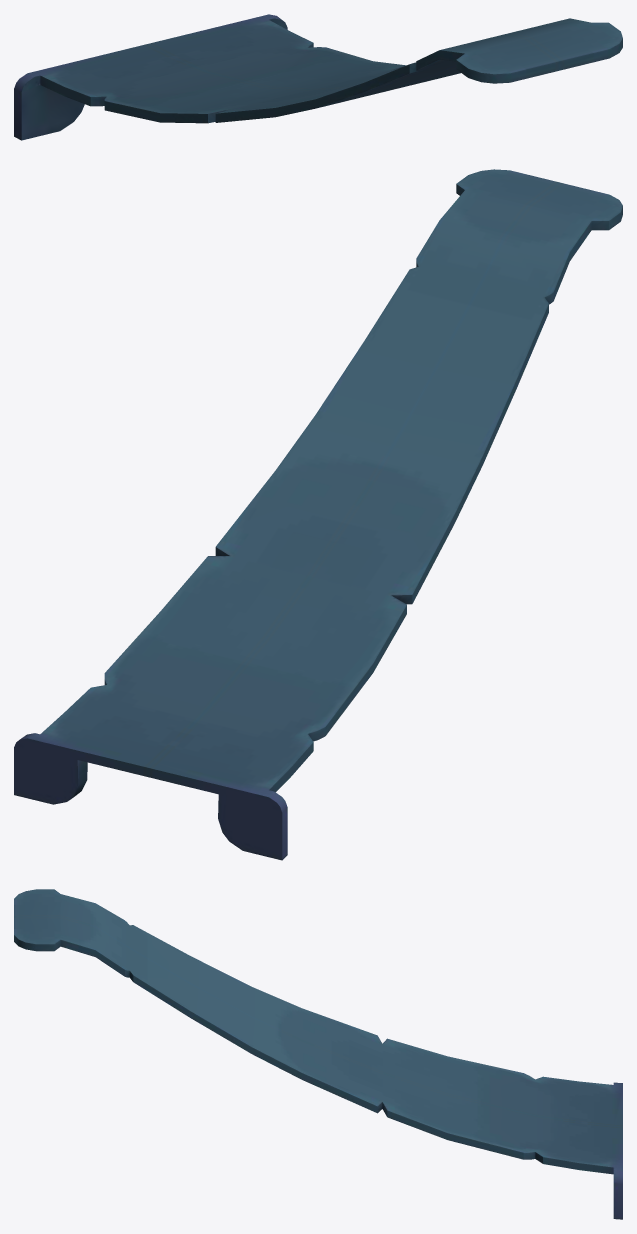
Rendered from OBJ_FLAG_B_02.obj.
The picture shows the model from 3 angles, top to bottom: view 1: azimuth 30°, elevation 25°; view 2: azimuth 150°, elevation 25°; view 3: azimuth 270°, elevation 25°; orthographic projection. The views are drawn at different scales.
Parts seen in each view (by area): view 1: OBJ_FLAG_B_02; view 2: OBJ_FLAG_B_02; view 3: OBJ_FLAG_B_02.
Part boxes in pixels (x1,y1,x2,y2): OBJ_FLAG_B_02: [14, 14, 622, 140]; OBJ_FLAG_B_02: [14, 169, 622, 860]; OBJ_FLAG_B_02: [14, 889, 622, 1219].
Size of the model in its own units: 3.43 by 4.2 by 9.11.
Materials: 1 (1 with a texture image).
